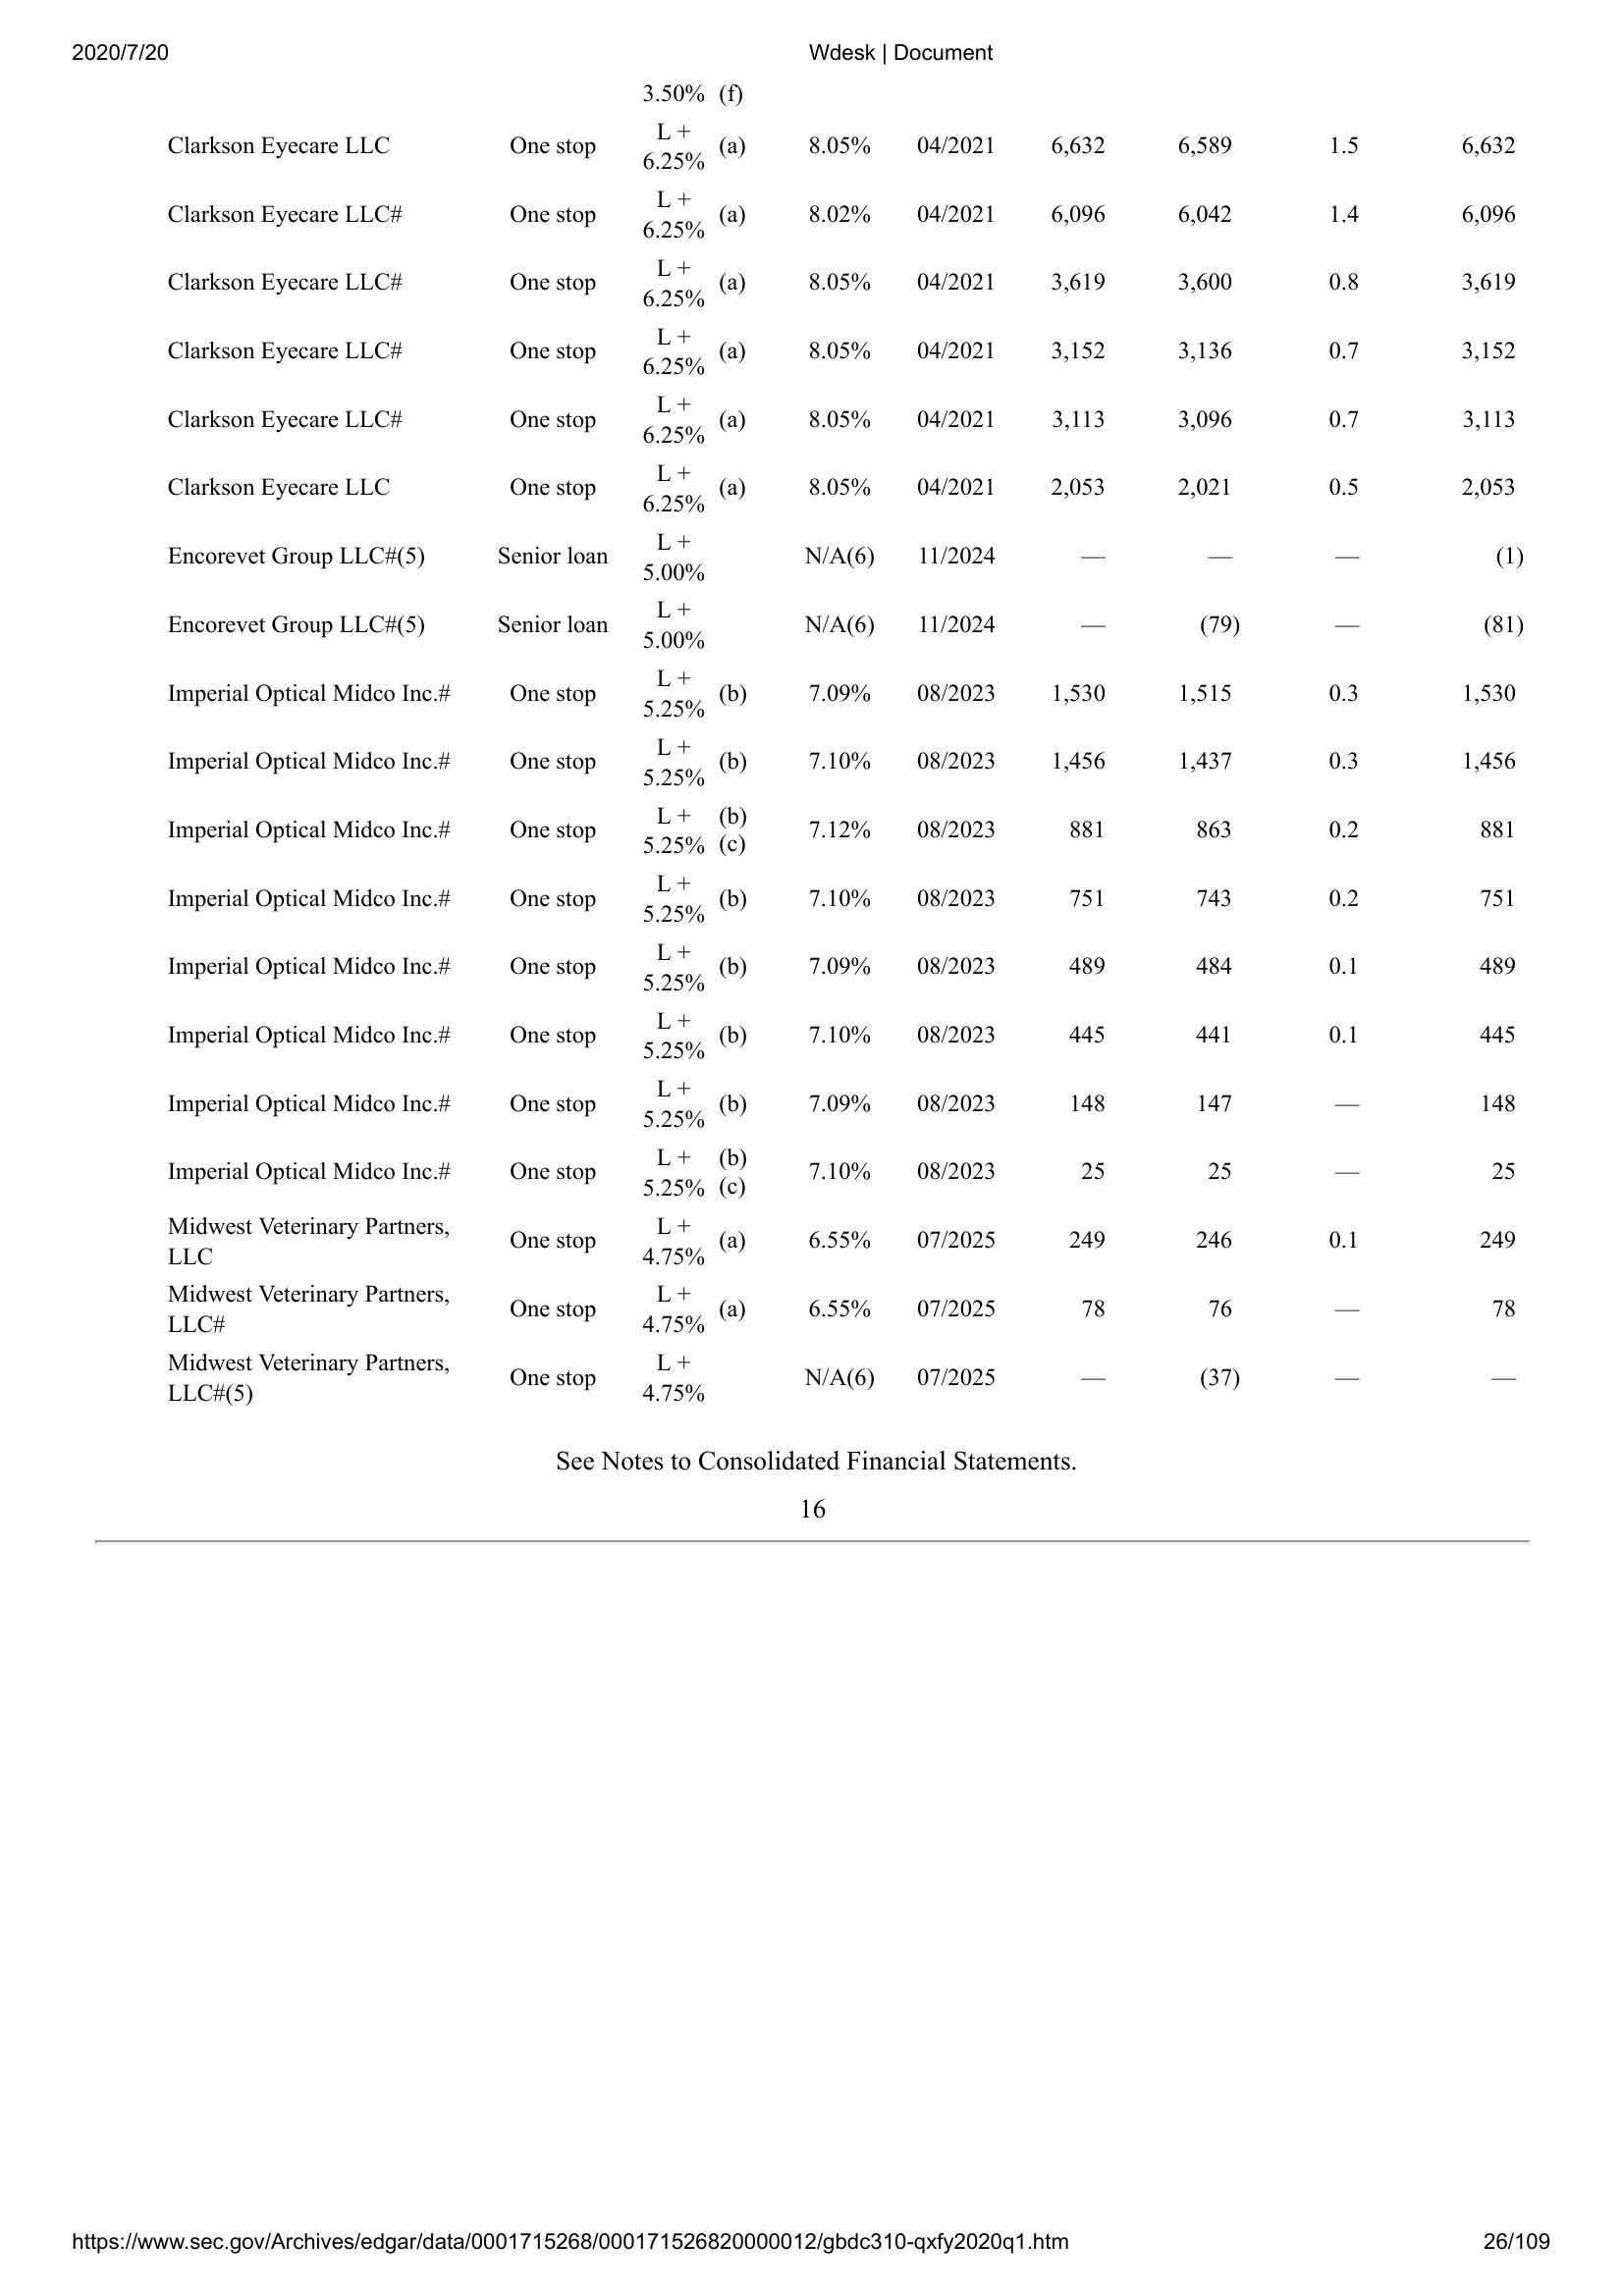table: (153, 70, 1530, 1415)
